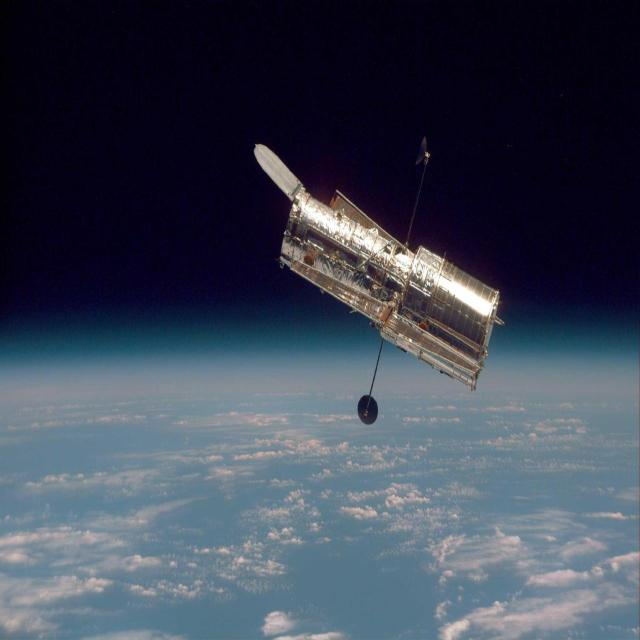satellite: (254, 144, 499, 389)
